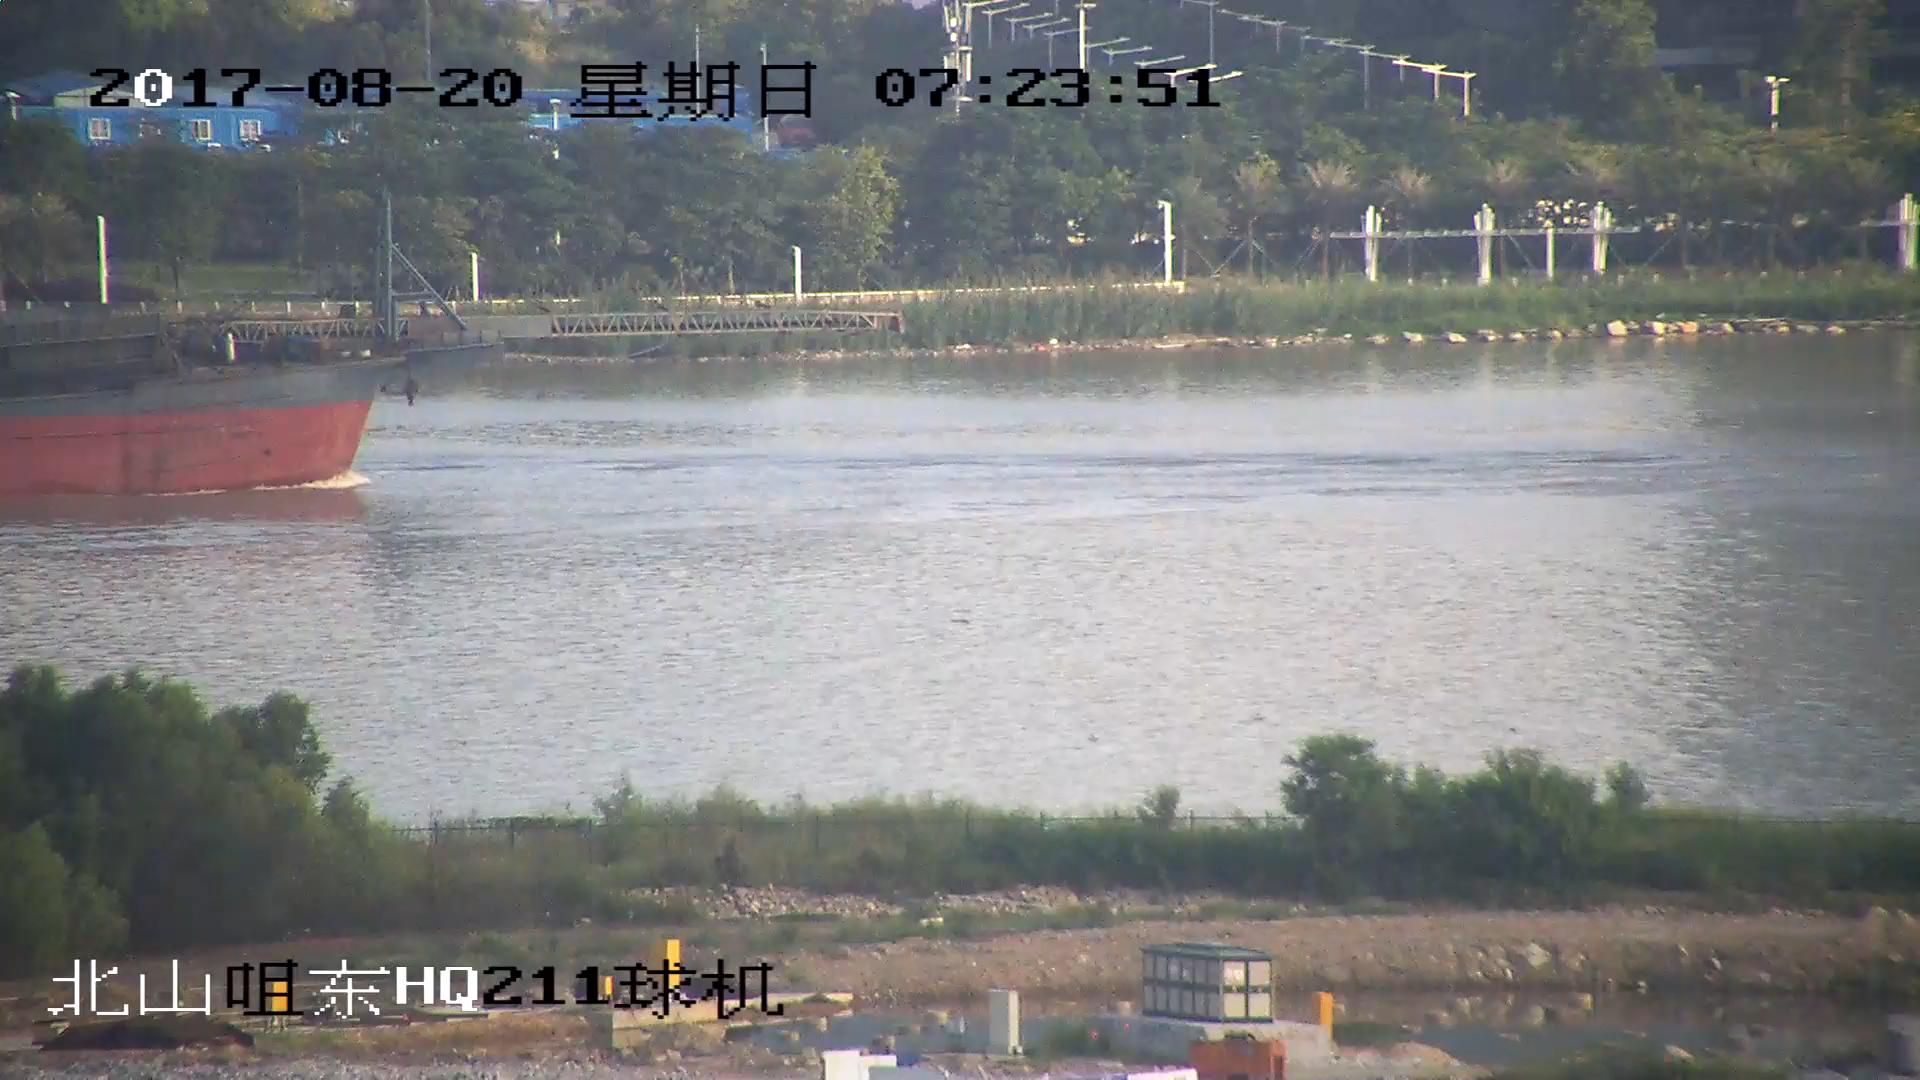bulk cargo carrier: (1, 186, 899, 503)
